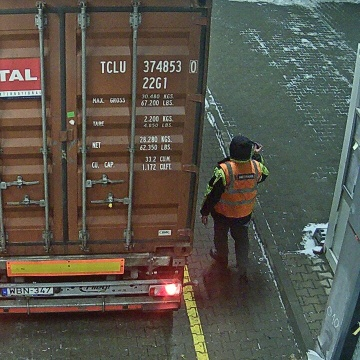serial_id: (100, 60, 196, 73)
